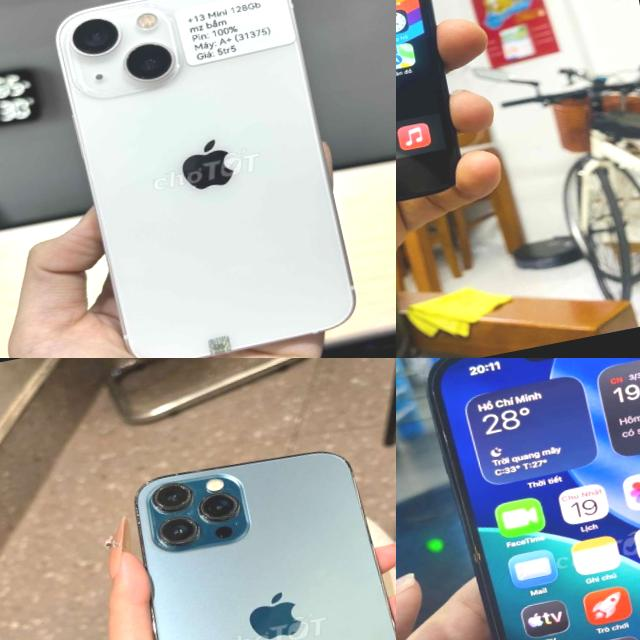gen_12_13: (42, 0, 368, 358), (414, 358, 640, 640), (113, 415, 396, 640)
gen_7_8: (396, 0, 485, 243)
